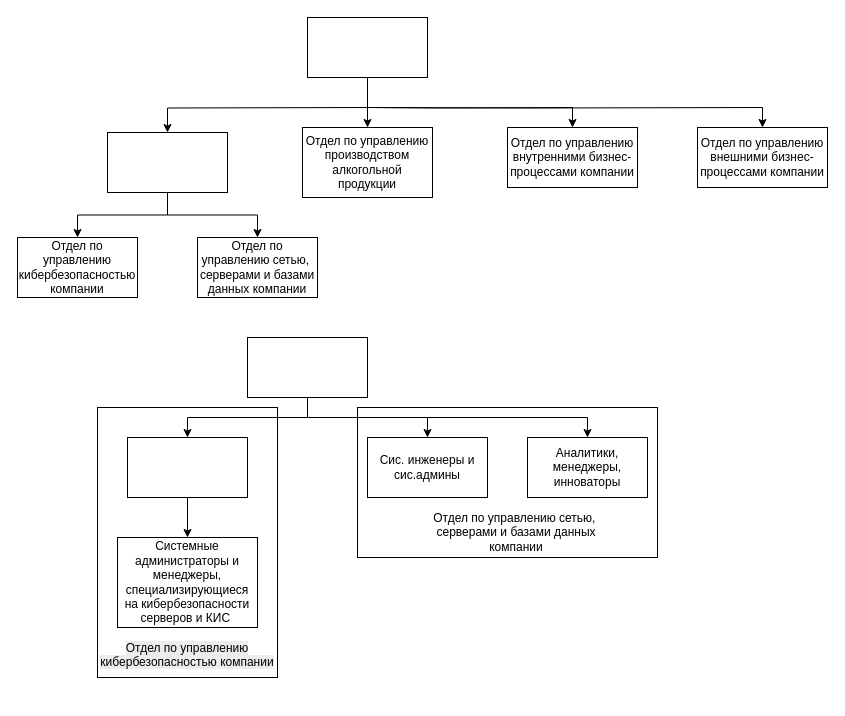
The diagram is 845 pixels wide and 716 high, and some of its shapes have lost their labels. The box of each missing label's shape, as (x1, y1, x2, y2) in pixels:
IT-отдел: (106, 132, 228, 192)
Генеральный отдел: (306, 16, 428, 78)
Начальник IT - отдела: (246, 336, 368, 398)
Начальник отдела по кибербезопасности компании: (126, 436, 248, 498)
